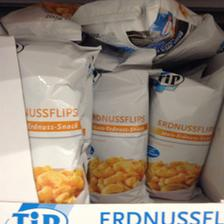Chips: (7, 40, 94, 204), (148, 67, 216, 199), (84, 64, 150, 200)
